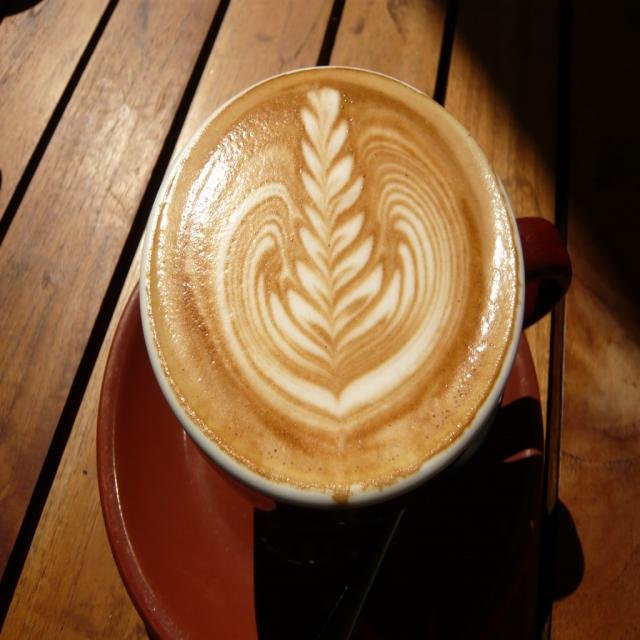latte: (139, 65, 526, 505)
